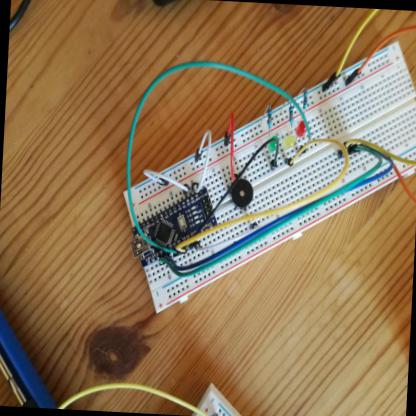Arduino_Nano: (130, 183, 223, 274)
